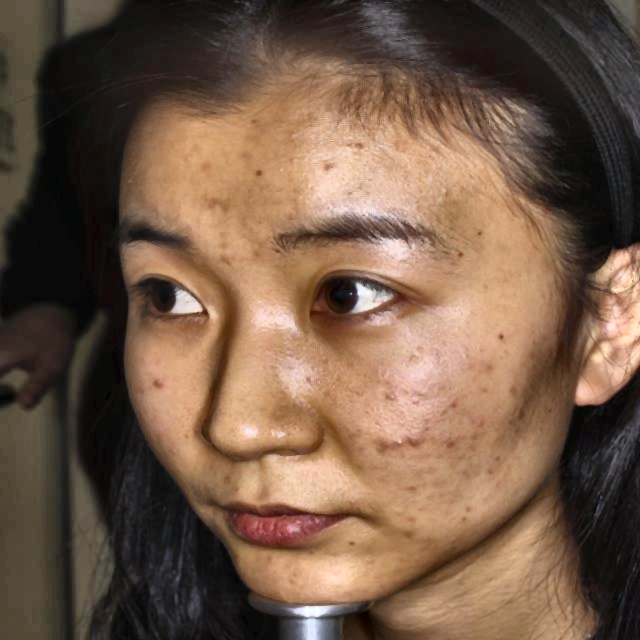pustule: (478, 352, 508, 392), (207, 191, 240, 221), (371, 428, 396, 465), (398, 427, 428, 455), (147, 366, 172, 394), (440, 429, 461, 461), (504, 374, 526, 404)
